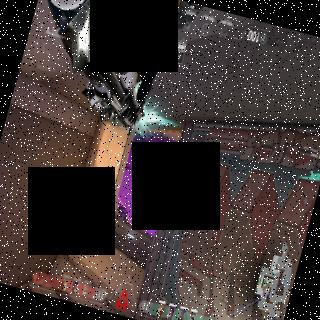ENEMY-BODY: (156, 136, 167, 161)
ENEMY-HEAD: (157, 156, 160, 160)
